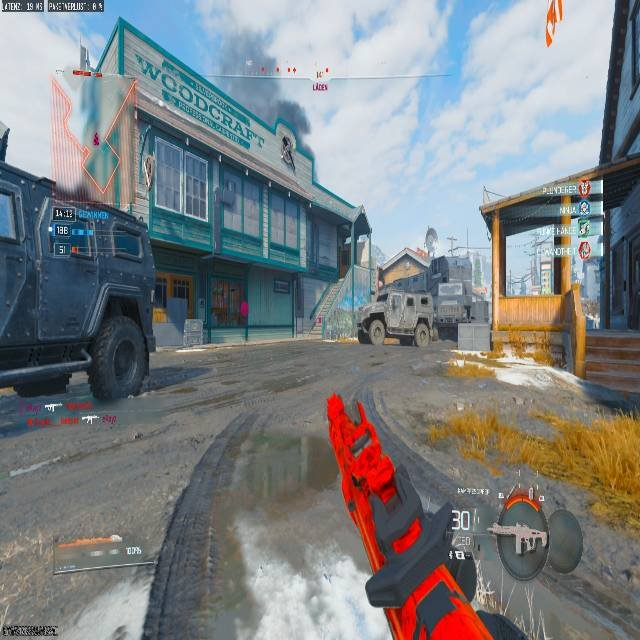player: (355, 310, 386, 345), (27, 344, 41, 367)
